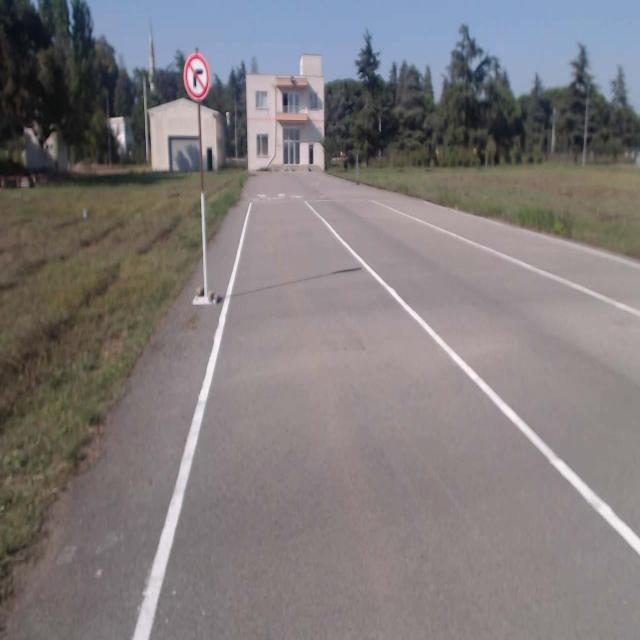sagadonulmez: (183, 55, 211, 100)
